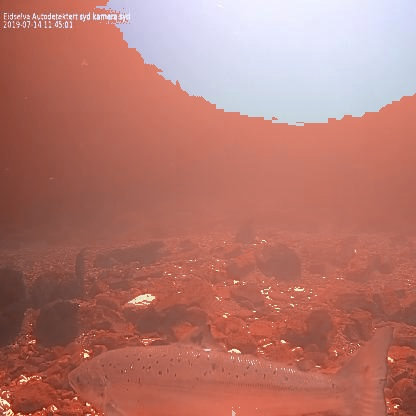salmon: (65, 322, 396, 416)
